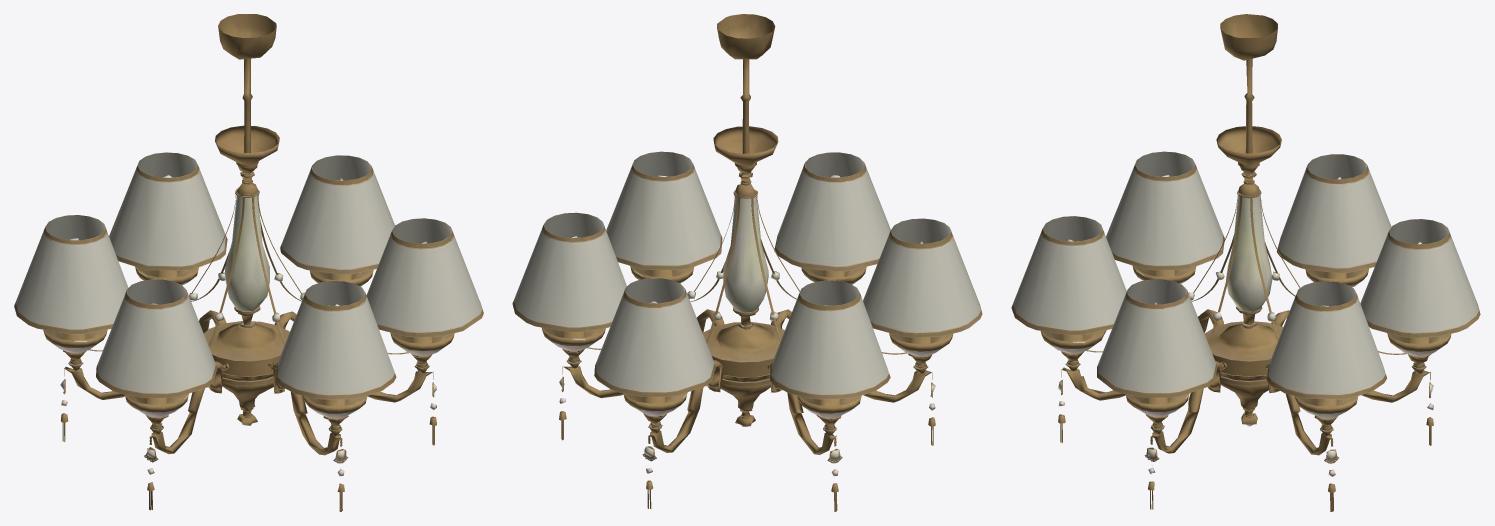
File: Chandelier_01.glb
3 renders of one model, left to right at view 1: azimuth 30°, elevation 25°; view 2: azimuth 150°, elevation 25°; view 3: azimuth 270°, elevation 25°, orthographic.
Parts seen in each view (by area): view 1: Chandelier_01; view 2: Chandelier_01; view 3: Chandelier_01.
Boxes of the visible parts, x1,y1,x2,y2 form: Chandelier_01: [14, 14, 483, 511]; Chandelier_01: [512, 14, 982, 511]; Chandelier_01: [1011, 14, 1480, 511].
Bounding box in the file's own units: 0.7426 × 0.7982 × 0.8155.
Materials: 2 (1 with a texture image).
